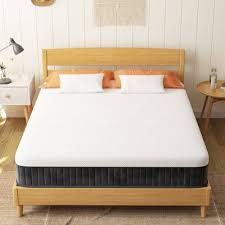bed-matress: (15, 75, 211, 187)
